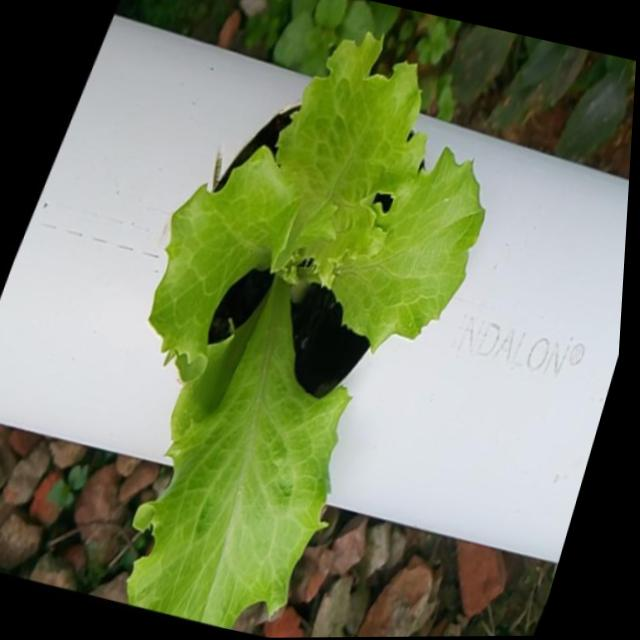Baby: (134, 31, 485, 630)
